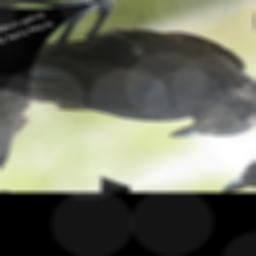Crow: (0, 0, 256, 181)
